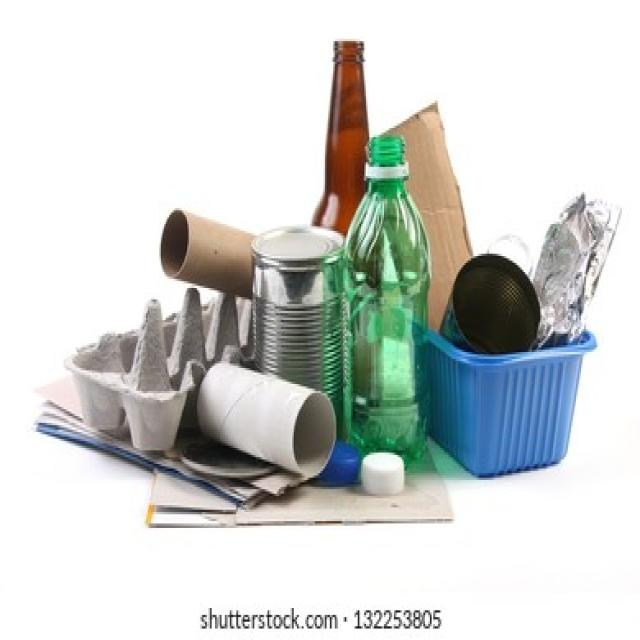cardboard: (158, 199, 255, 295), (110, 338, 176, 437)
metal: (258, 242, 340, 375)
paper: (235, 393, 328, 471)
plastic: (363, 220, 420, 418)
